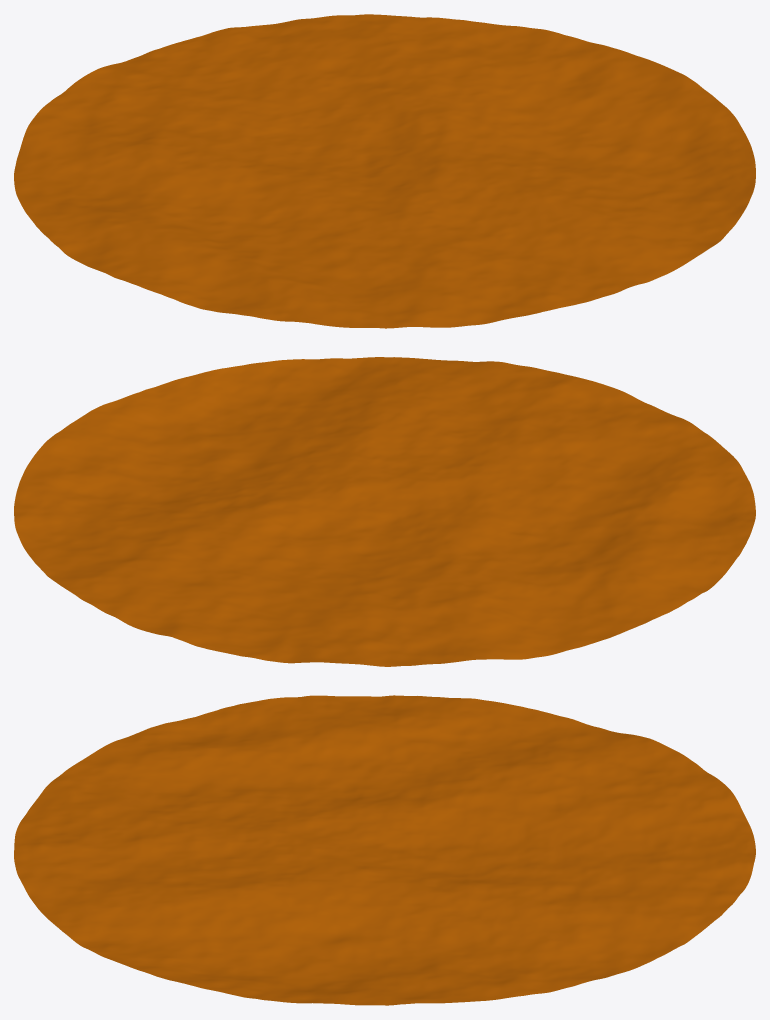
The model's file is lavaAnimationTest.fbx.
3 renders of one model, top to bottom at view 1: azimuth 30°, elevation 25°; view 2: azimuth 150°, elevation 25°; view 3: azimuth 270°, elevation 25°, orthographic.
Visible parts, largest first — view 1: BossOutput; view 2: BossOutput; view 3: BossOutput.
Boxes of the visible parts, box(x1,y1,x2,y2) form: BossOutput: box(14, 14, 755, 328); BossOutput: box(14, 357, 755, 666); BossOutput: box(14, 695, 755, 1005).
Bounding box in the file's own units: 35.23 × 0.7554 × 35.11.
